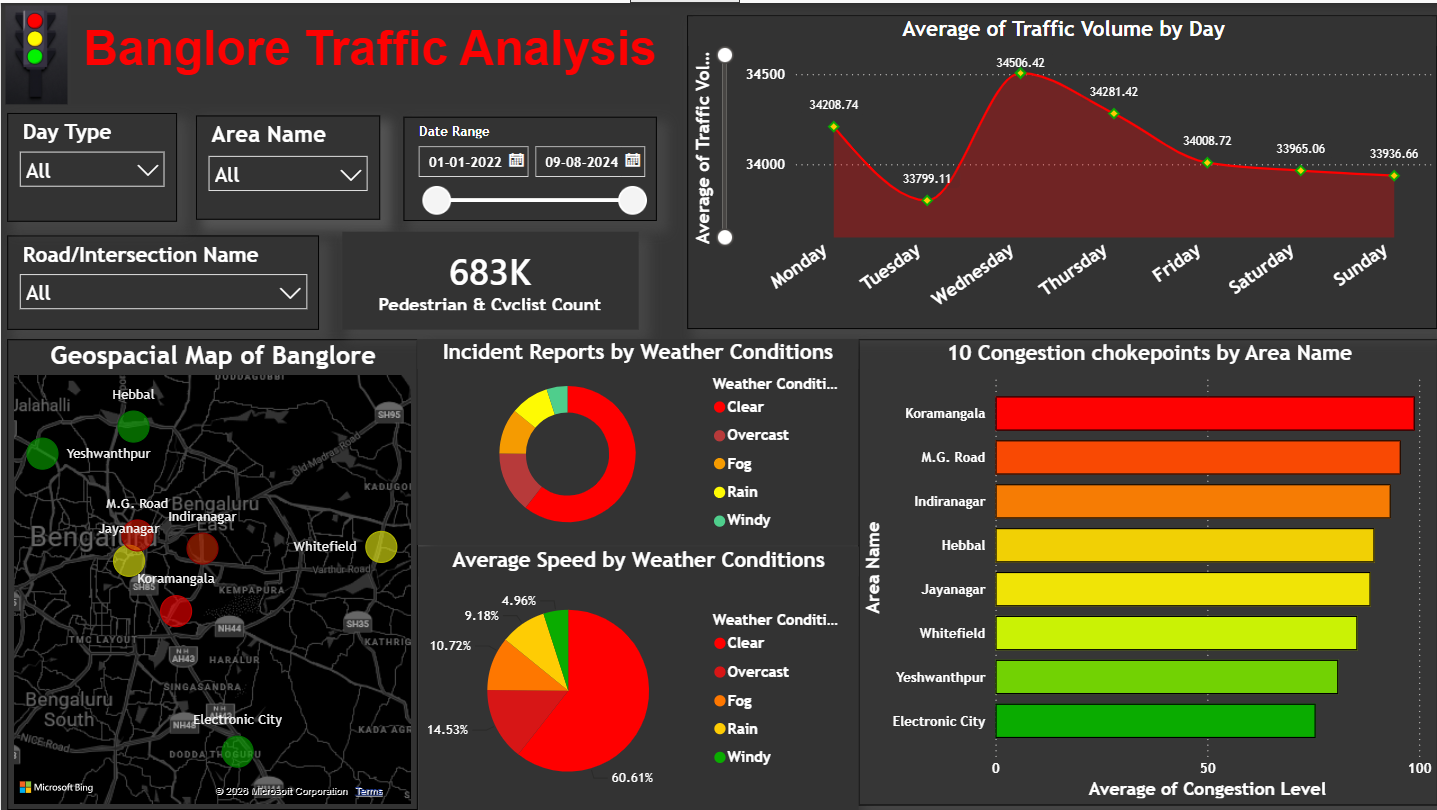

The dashboard page shown, as its layout file describes it:
{"tool":"powerbi","page":{"name":"Banglr_Traffic","canvas":[1280,720],"ordinal":0},"visuals":[{"type":"textbox","box":[5.6,11.1,572.2,79.2],"z":0},{"type":"slicer","fields":{"Values":["bangalore_traffic_cleaned_final.Area Name"]},"box":[169.4,87.5,163.9,93.1],"z":1000},{"type":"slicer","fields":{"Values":["bangalore_traffic_cleaned_final.Road/Intersection Name"]},"box":[5.6,197.2,272.2,93.1],"z":2000},{"type":"slicer","fields":{"Values":["bangalore_traffic_cleaned_final.Day Type"]},"box":[5.6,87.5,151.4,95.8],"z":3000},{"type":"map","title":"Geospacial Map of Banglore","fields":{"Category":["bangalore_traffic_cleaned_final.Area Name"]},"box":[5.6,300,365.3,419.4],"z":5000},{"type":"clusteredBarChart","title":"10 Congestion chokepoints by Area Name","fields":{"Category":["bangalore_traffic_cleaned_final.Area Name"],"Y":["Avg(bangalore_traffic_cleaned_final.Congestion Level)"]},"box":[763.9,300,516.7,415.3],"z":5001},{"type":"slicer","fields":{"Values":["bangalore_traffic_cleaned_final.Date"]},"box":[352.8,90.3,225,93.1],"z":5002},{"type":"pieChart","title":"Average Speed by Weather Conditions","fields":{"Category":["bangalore_traffic_cleaned_final.Weather Conditions"],"Y":["CountNonNull(bangalore_traffic_cleaned_final.Average Speed)"]},"box":[371.6,483.8,392.1,235.3],"z":5003},{"type":"cardVisual","fields":{"Data":["Sum(bangalore_traffic_cleaned_final.Pedestrian and Cyclist Count)"]},"box":[294.4,194.4,263.9,95.8],"z":5004},{"type":"lineChart","title":"Average of Traffic Volume by Day","fields":{"Y":["Avg(bangalore_traffic_cleaned_final.Traffic Volume)"],"Category":["bangalore_traffic_cleaned_final.Day_Name"]},"box":[590.3,23.6,690.3,266.7],"z":5005},{"type":"donutChart","title":"Incident Reports by Weather Conditions","fields":{"Category":["bangalore_traffic_cleaned_final.Weather Conditions"],"Y":["CountNonNull(bangalore_traffic_cleaned_final.Incident Reports)"]},"box":[370.8,300,393.1,183.3],"z":5006}]}

Visuals, with their boxes in screenshot pixels (x1, y1, x2, y2), scaled from the page's 1280x720 canvas onto the 1437x810 screenshot:
textbox: [6, 12, 649, 102]
slicer - bangalore_traffic_cleaned_final.Area Name: [190, 98, 374, 203]
slicer - bangalore_traffic_cleaned_final.Road/Intersection Name: [6, 222, 312, 327]
slicer - bangalore_traffic_cleaned_final.Day Type: [6, 98, 176, 206]
"Geospacial Map of Banglore" map: [6, 338, 416, 809]
"10 Congestion chokepoints by Area Name" clusteredBarChart: [858, 338, 1436, 805]
slicer - bangalore_traffic_cleaned_final.Date: [396, 102, 649, 206]
"Average Speed by Weather Conditions" pieChart: [417, 544, 857, 809]
cardVisual - Sum(bangalore_traffic_cleaned_final.Pedestrian and Cyclist Count): [331, 219, 627, 326]
"Average of Traffic Volume by Day" lineChart: [663, 27, 1436, 327]
"Incident Reports by Weather Conditions" donutChart: [416, 338, 858, 544]
